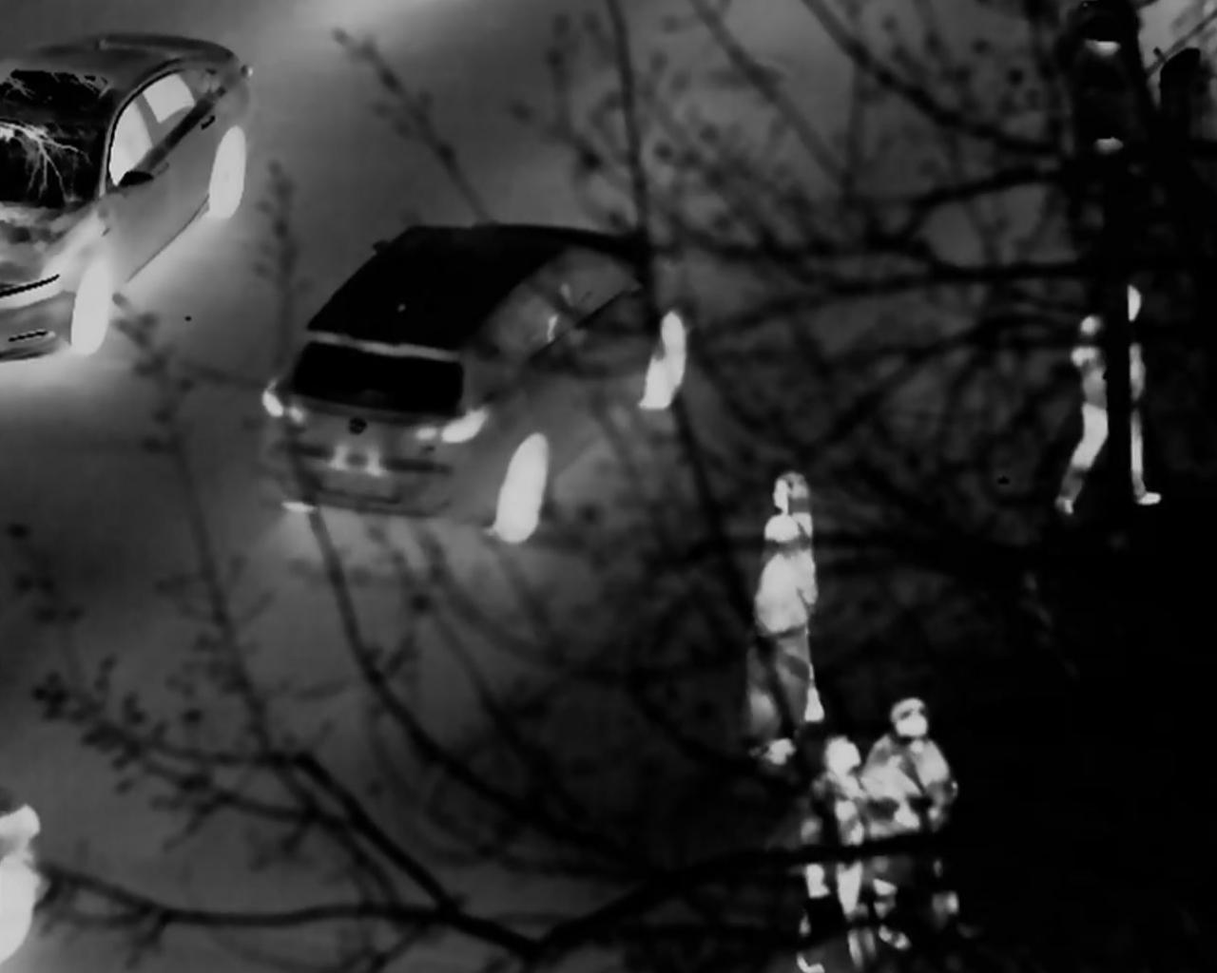person: (856, 690, 976, 925), (1058, 282, 1173, 518), (737, 511, 820, 764), (754, 473, 827, 721), (806, 730, 857, 927)
